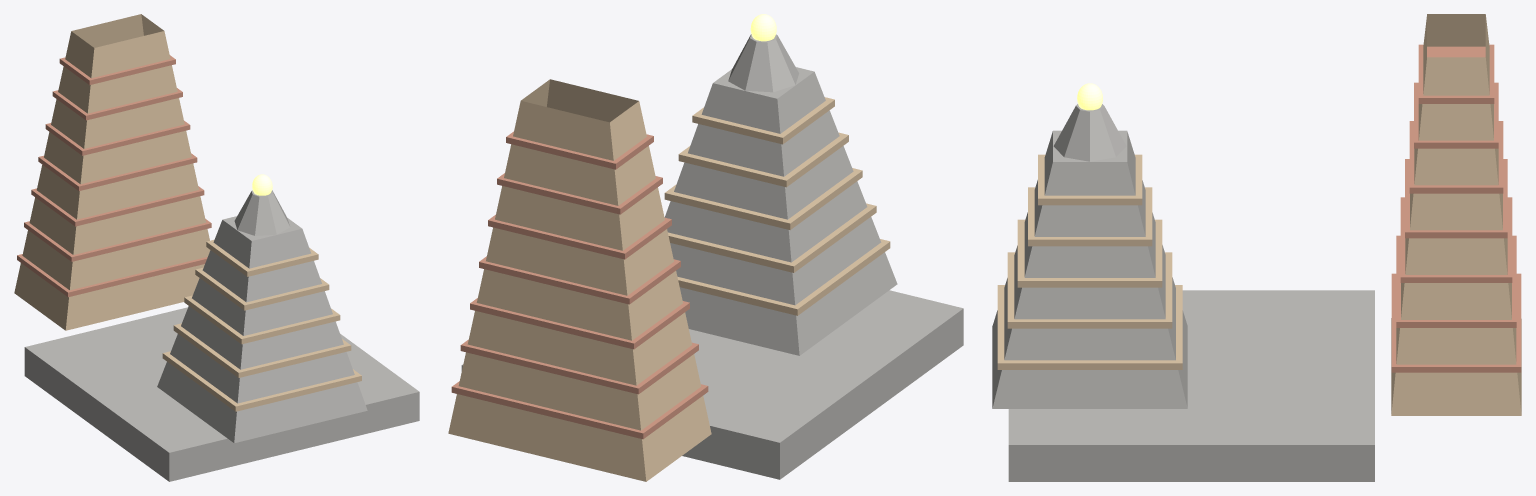
The model's file is dravidian_s4.glb.
3 views of the same model, side by side, from view 1: azimuth 30°, elevation 25°; view 2: azimuth 150°, elevation 25°; view 3: azimuth 270°, elevation 25° (orthographic). The views are drawn at different scales.
Parts seen in each view (by area): view 1: dravidian; view 2: dravidian; view 3: dravidian.
Boxes of the visible parts, x1,y1,x2,y2 form: dravidian: (14,14,419,481); dravidian: (448,14,963,481); dravidian: (992,14,1521,481).
Size of the model in its own units: 9 by 10 by 13.
